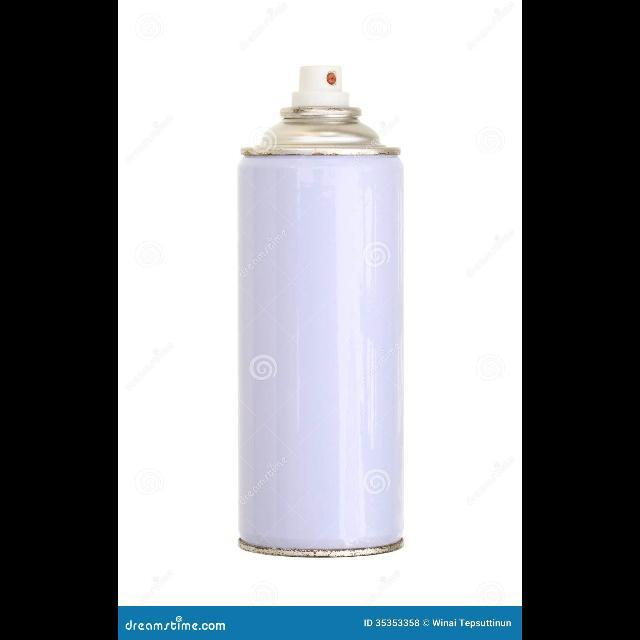chemical_spray_can: (215, 52, 433, 578)
